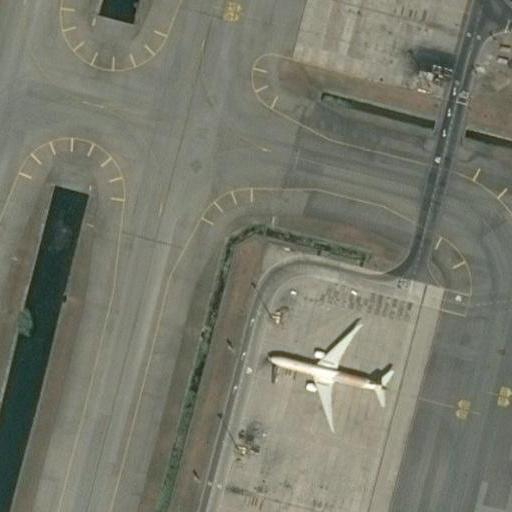Aircraft: (266, 320, 395, 429)
